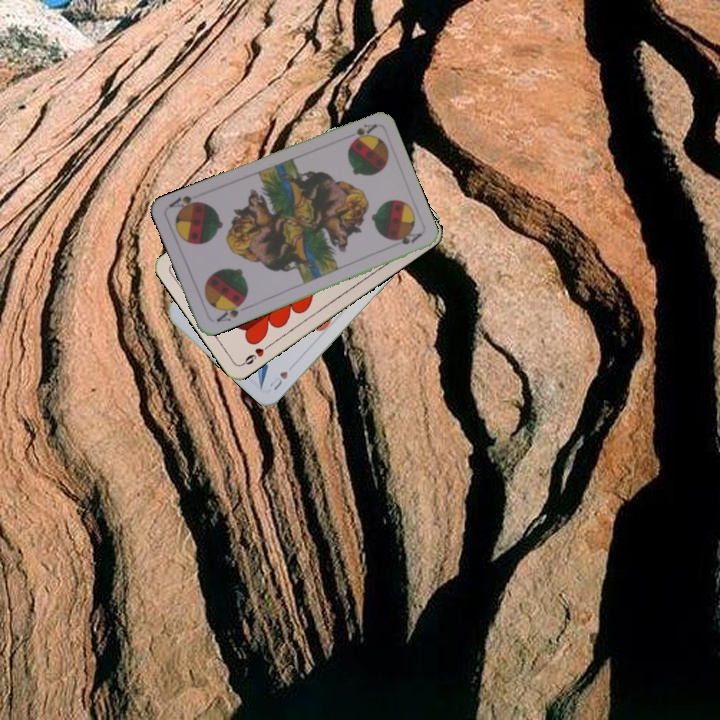H9: (238, 340, 274, 368)
HU: (265, 367, 290, 393)
SA: (212, 297, 246, 325), (347, 120, 379, 145)
